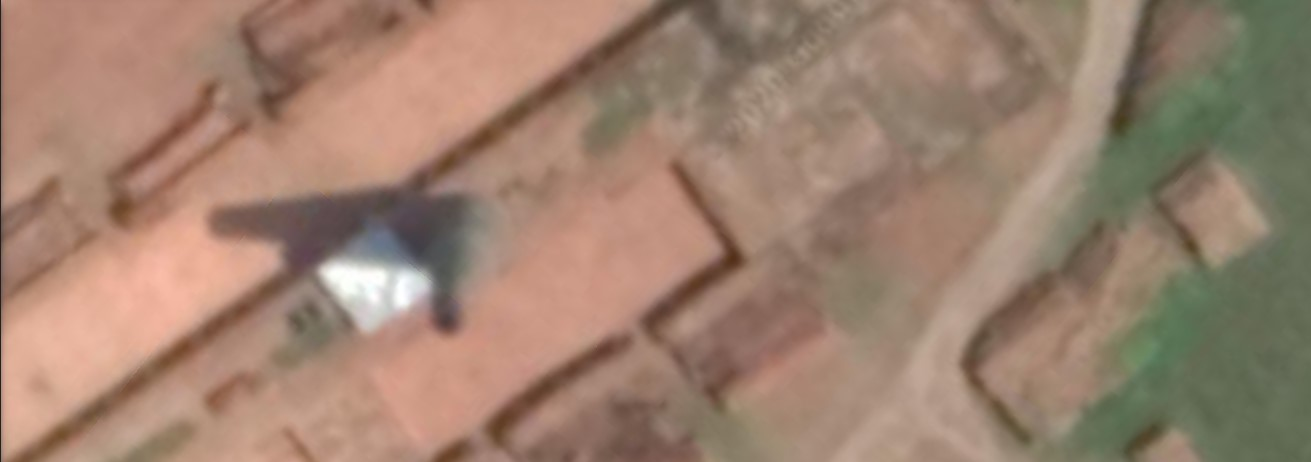kiln: (136, 3, 701, 462)
